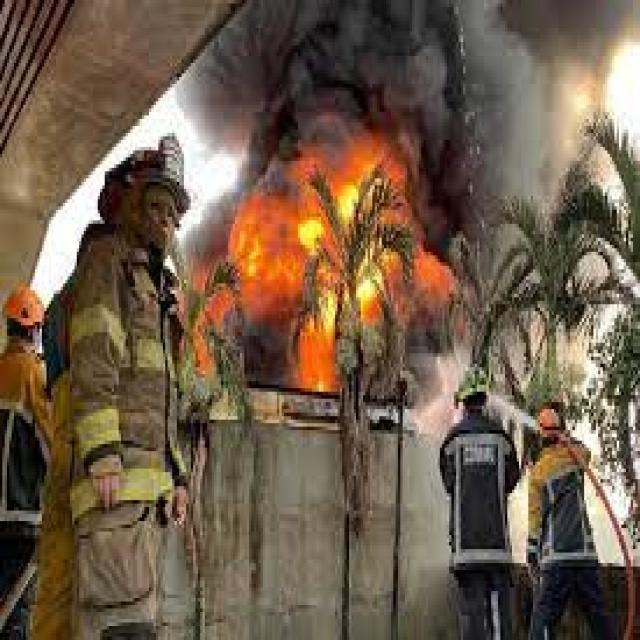Fire: (248, 195, 404, 405)
Smoke: (246, 0, 640, 192), (423, 204, 528, 287), (188, 64, 249, 176)
